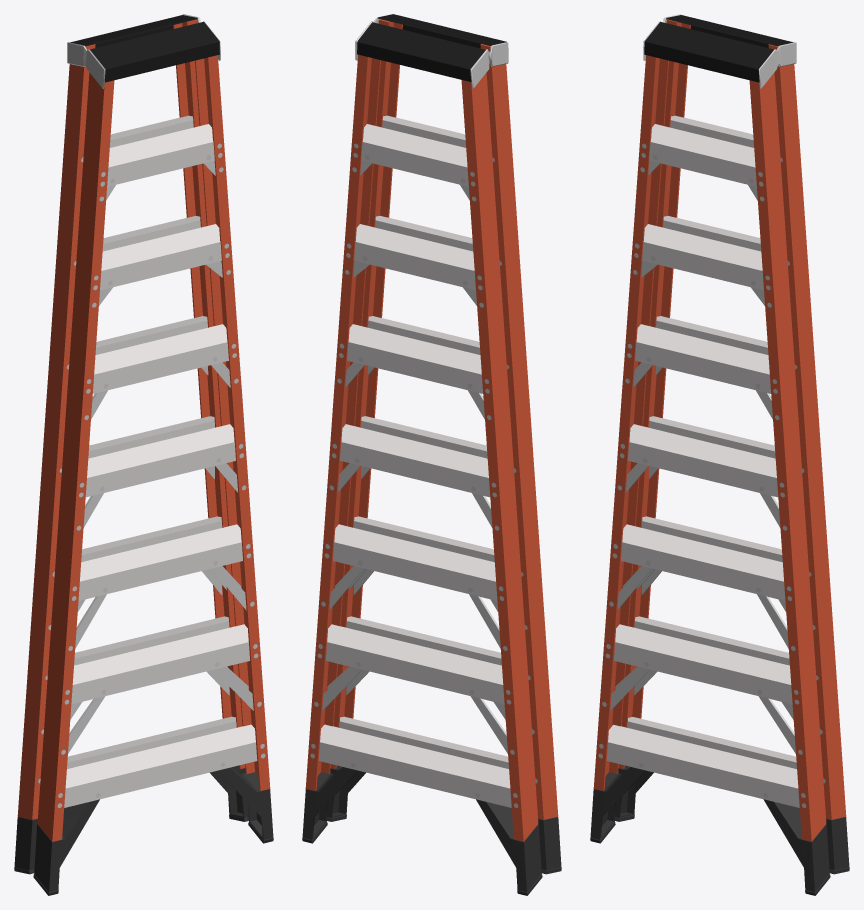
The model's file is ladder.glb.
3 views of the same model, side by side, from view 1: azimuth 30°, elevation 25°; view 2: azimuth 150°, elevation 25°; view 3: azimuth 330°, elevation 25° (orthographic).
Visible parts, largest first — view 1: Ladder_State_01_0; view 2: Ladder_State_01_0; view 3: Ladder_State_01_0.
Part boxes in pixels (x1,y1,x2,y2): Ladder_State_01_0: (14, 14, 273, 895); Ladder_State_01_0: (302, 14, 561, 895); Ladder_State_01_0: (590, 14, 849, 895).
Bounding box in the file's own units: 0.7882 × 2.75 × 0.2258.
